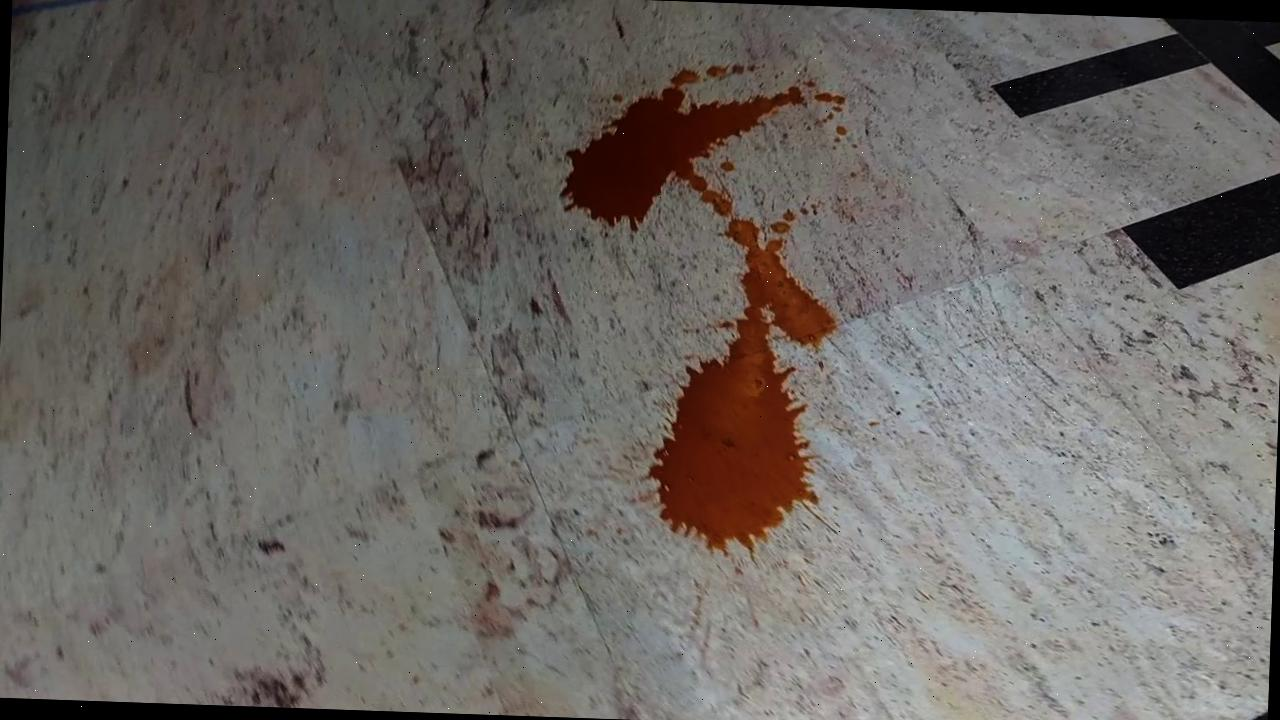dirty_floor: (548, 56, 854, 555)
